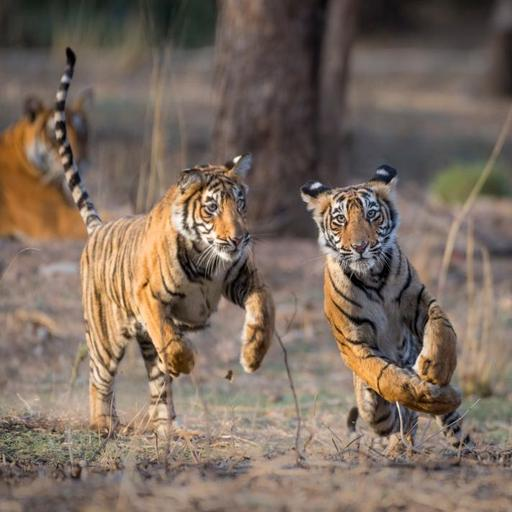Tiger: (41, 45, 285, 448), (299, 165, 485, 490), (0, 84, 109, 256)
